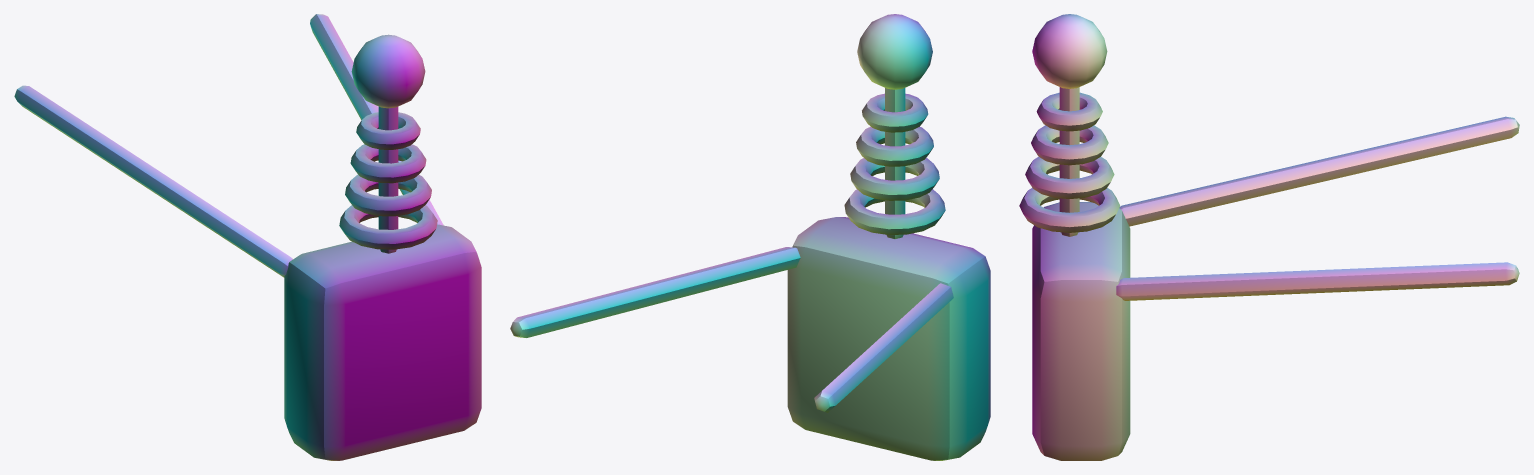
Rendered from acc_coilpack.glb.
3 renders of one model, left to right at view 1: azimuth 30°, elevation 25°; view 2: azimuth 150°, elevation 25°; view 3: azimuth 270°, elevation 25°, orthographic. The views are drawn at different scales.
Visible parts, largest first — view 1: coilpack; view 2: coilpack; view 3: coilpack.
Boxes of the visible parts, x1,y1,x2,y2 form: coilpack: (14,14,481,460); coilpack: (510,14,990,460); coilpack: (1019,14,1519,460).
Size of the model in its own units: 0.1277 by 0.1575 by 0.1734.
